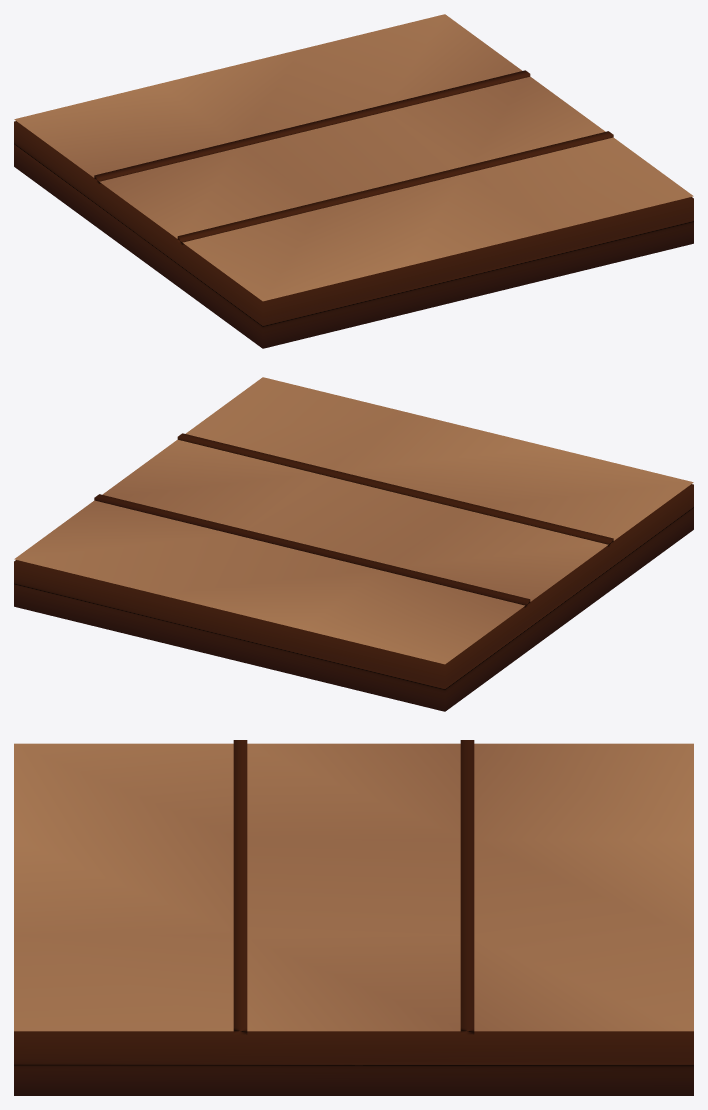
Rendered from floor_wood.glb.
3 views of the same model, one above another, from view 1: azimuth 30°, elevation 25°; view 2: azimuth 150°, elevation 25°; view 3: azimuth 270°, elevation 25° (orthographic). The views are drawn at different scales.
Parts seen in each view (by area): view 1: Tile.001; view 2: Tile.001; view 3: Tile.001.
Part boxes in pixels (x1=…): Tile.001: x1=14, y1=14, x2=693, y2=348; Tile.001: x1=14, y1=377, x2=693, y2=711; Tile.001: x1=14, y1=740, x2=693, y2=1095.
Size of the model in its own units: 1 by 0.111 by 1.
